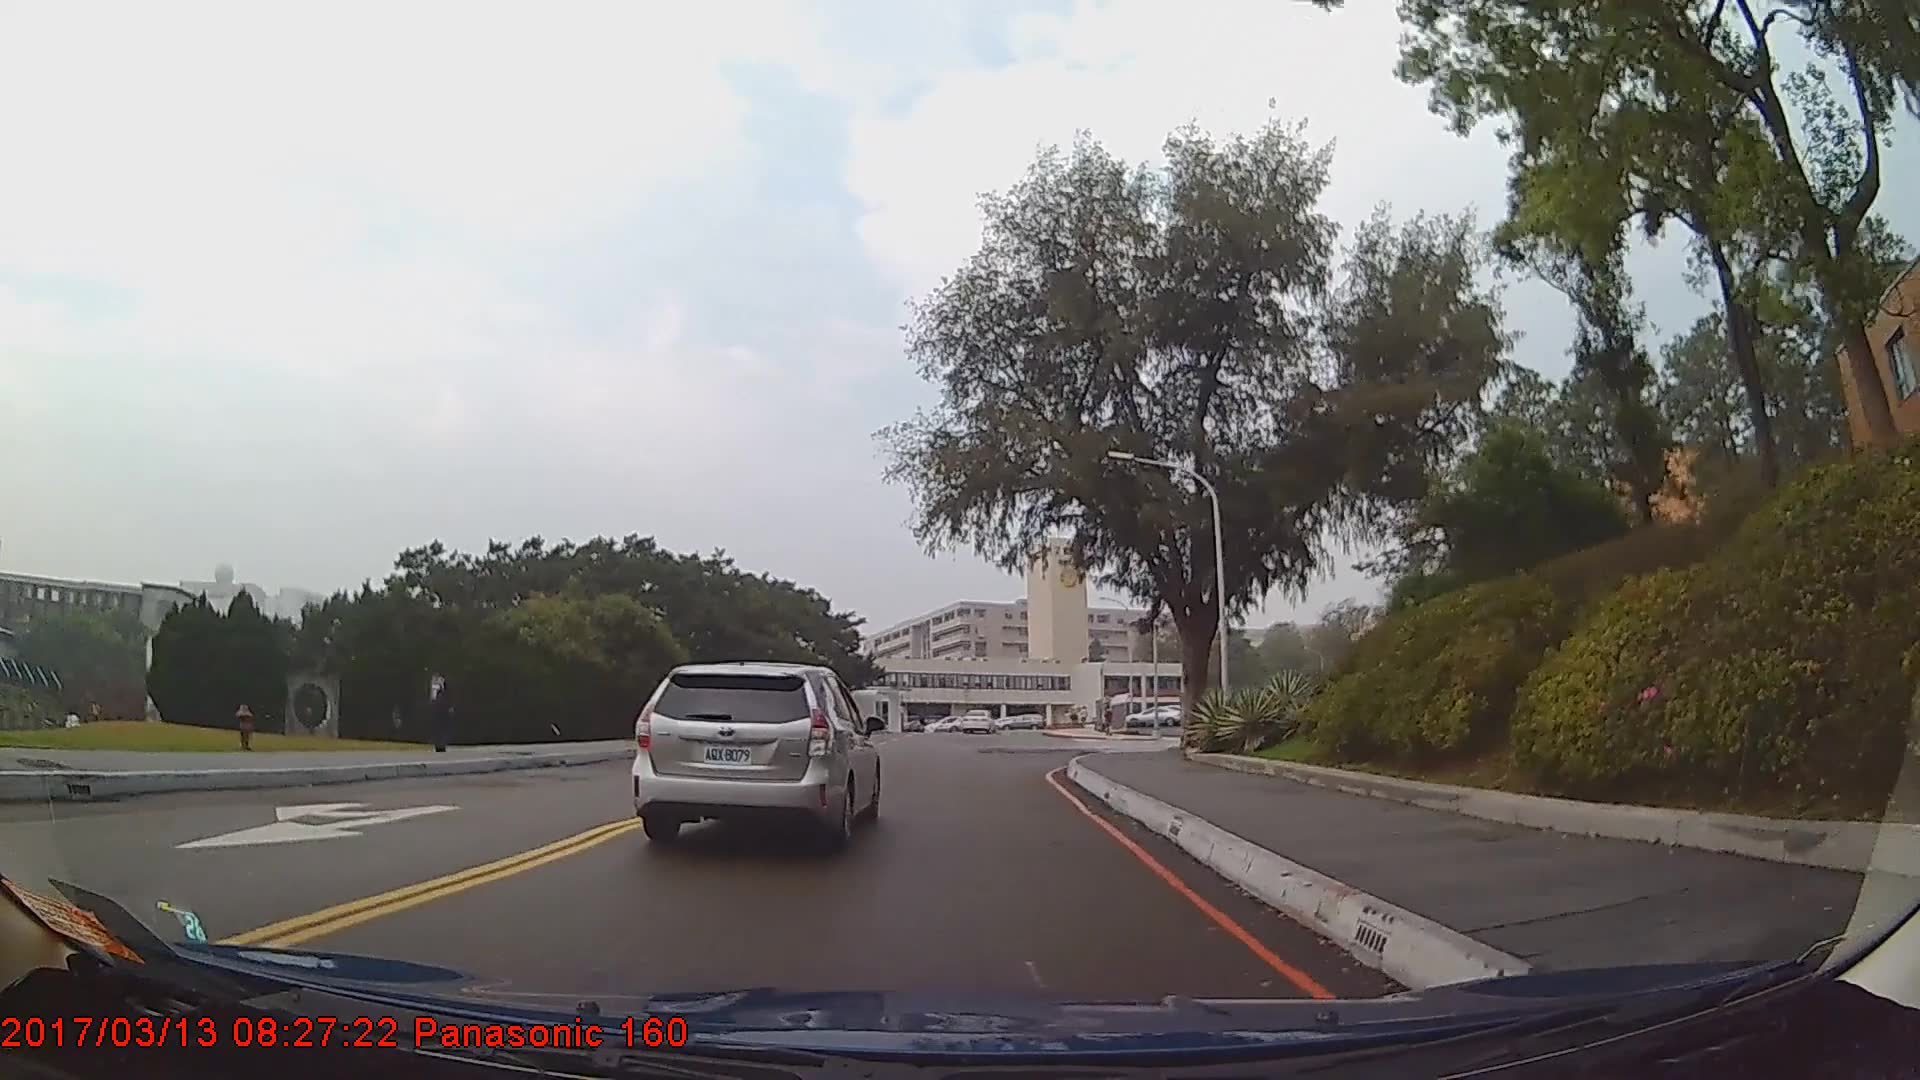pedestrian: (415, 662, 459, 754)
vehicle: (628, 658, 880, 848), (1122, 706, 1182, 728), (957, 706, 995, 733)
